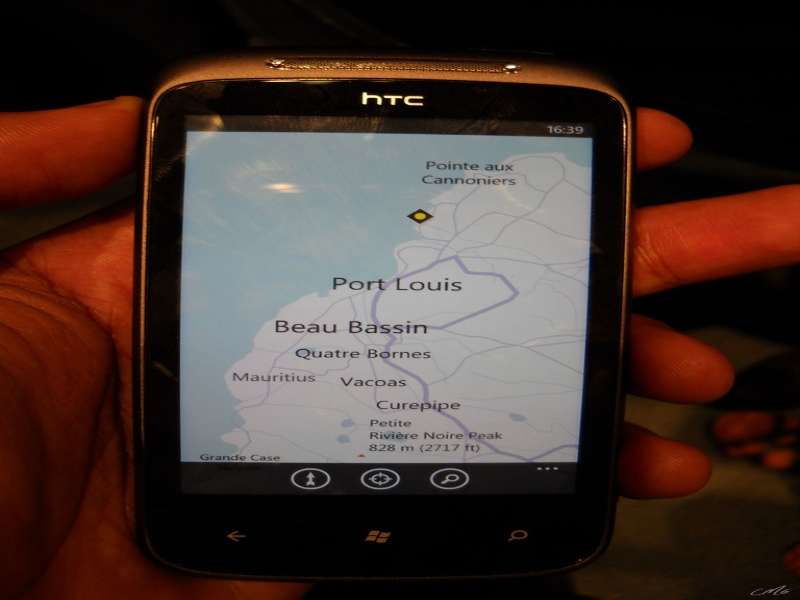cellphone: (135, 45, 624, 584)
